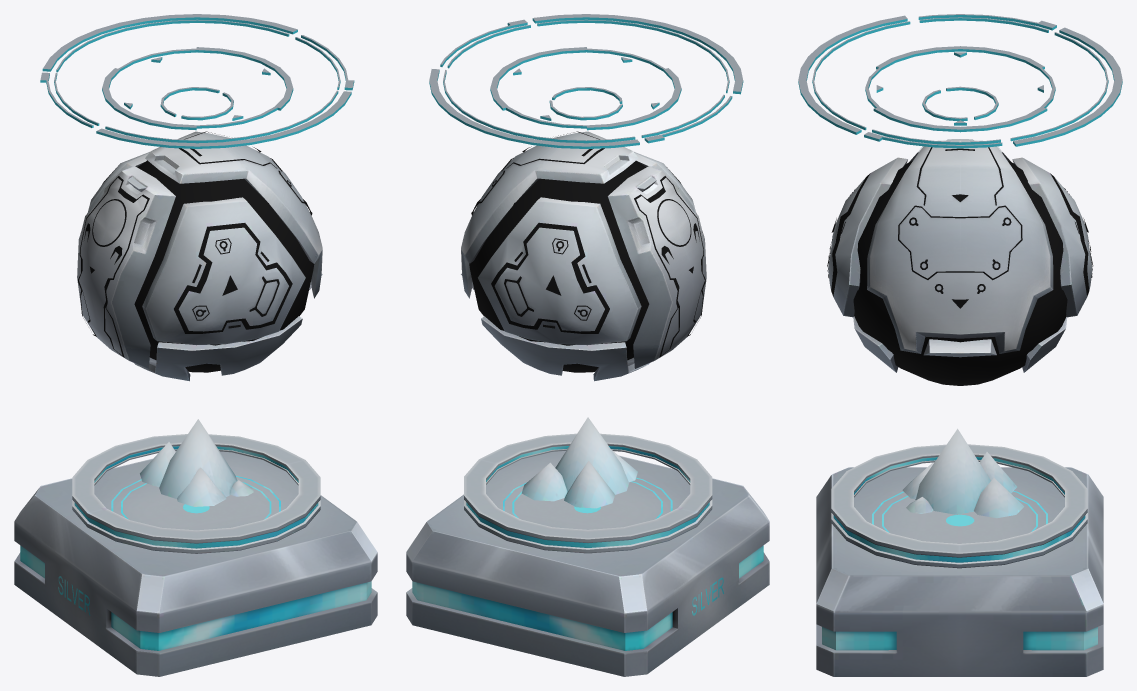
Rendered from my_trophy_chesed_outdoor_silver.glb.
3 views of the same model, side by side, from view 1: azimuth 30°, elevation 25°; view 2: azimuth 150°, elevation 25°; view 3: azimuth 270°, elevation 25° (orthographic). The views are drawn at different scales.
Visible parts, largest first — view 1: my_trophy_chesed_outdoor_silver; view 2: my_trophy_chesed_outdoor_silver; view 3: my_trophy_chesed_outdoor_silver.
Boxes of the visible parts, <box> form: my_trophy_chesed_outdoor_silver: <box>14,14,377,676</box>; my_trophy_chesed_outdoor_silver: <box>406,14,769,676</box>; my_trophy_chesed_outdoor_silver: <box>798,14,1122,676</box>.
Bounding box in the file's own units: 0.00424 × 0.00804 × 0.0044.
Materials: 3 (3 with a texture image).
